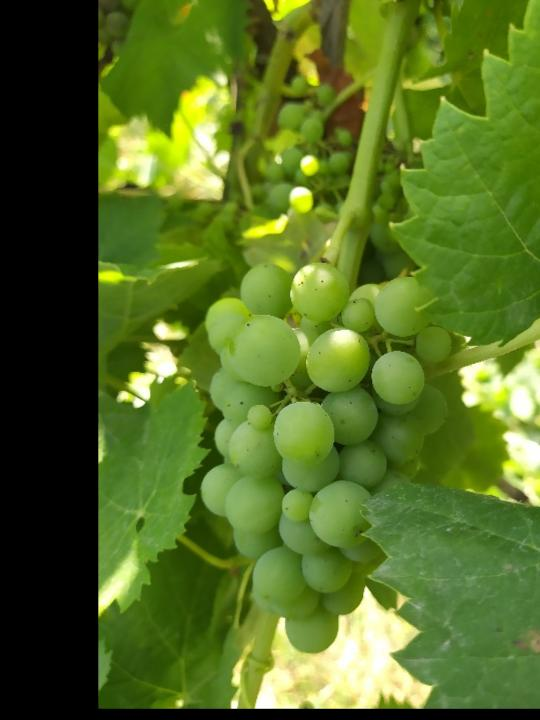grape: (197, 258, 449, 656)
